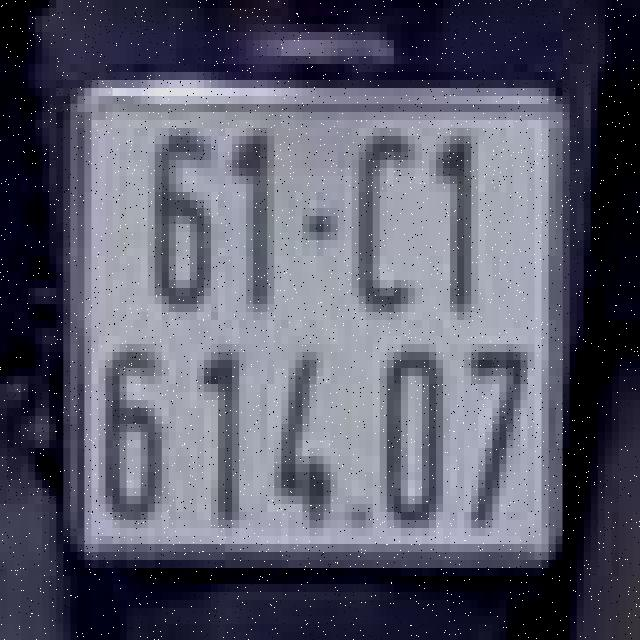0: (359, 340, 450, 540)
1: (415, 116, 513, 324), (218, 116, 295, 332), (183, 304, 253, 536)
4: (271, 324, 334, 524)
6: (134, 116, 218, 316), (98, 312, 169, 528)
7: (457, 324, 535, 540)
C: (334, 108, 411, 324)
